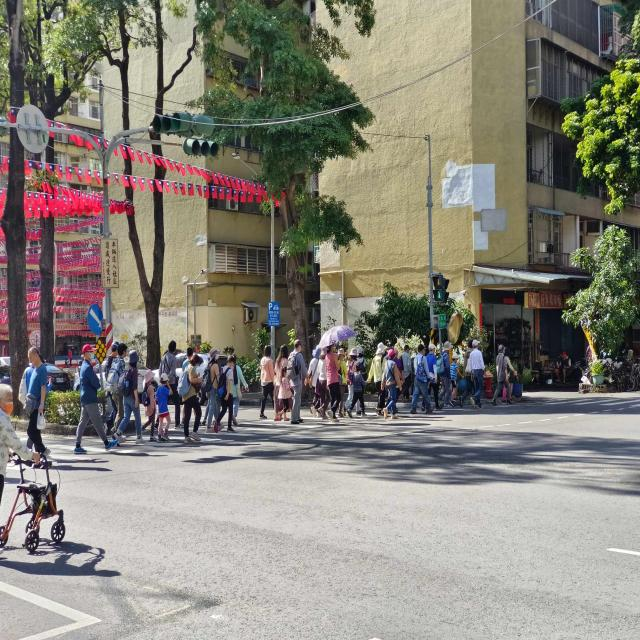person: (0, 383, 41, 502), (74, 345, 116, 453), (26, 347, 50, 458), (114, 350, 142, 445), (179, 353, 202, 443), (106, 343, 128, 433), (159, 342, 180, 426), (288, 340, 308, 425), (216, 355, 238, 431), (410, 343, 432, 415), (491, 345, 516, 407), (202, 348, 220, 433), (381, 348, 402, 418), (368, 343, 386, 416), (274, 345, 291, 422), (466, 340, 485, 408), (325, 345, 341, 422), (260, 345, 275, 419), (156, 373, 171, 442), (436, 342, 452, 406), (142, 370, 156, 441), (426, 343, 440, 410), (349, 362, 366, 417), (344, 348, 358, 411), (338, 348, 350, 416), (401, 345, 412, 402), (450, 355, 459, 404), (356, 345, 366, 374)
zebra crossing: (50, 408, 428, 469)
